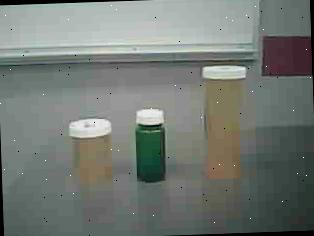Bottle A: (198, 63, 252, 186)
Bottle B: (66, 114, 118, 184)
Bottle C: (132, 104, 174, 186)
